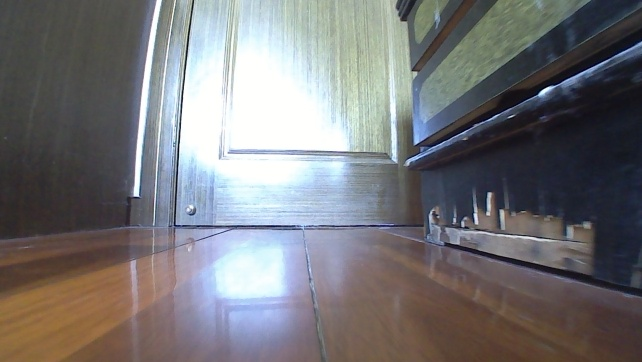door_anno: (136, 0, 422, 245)
